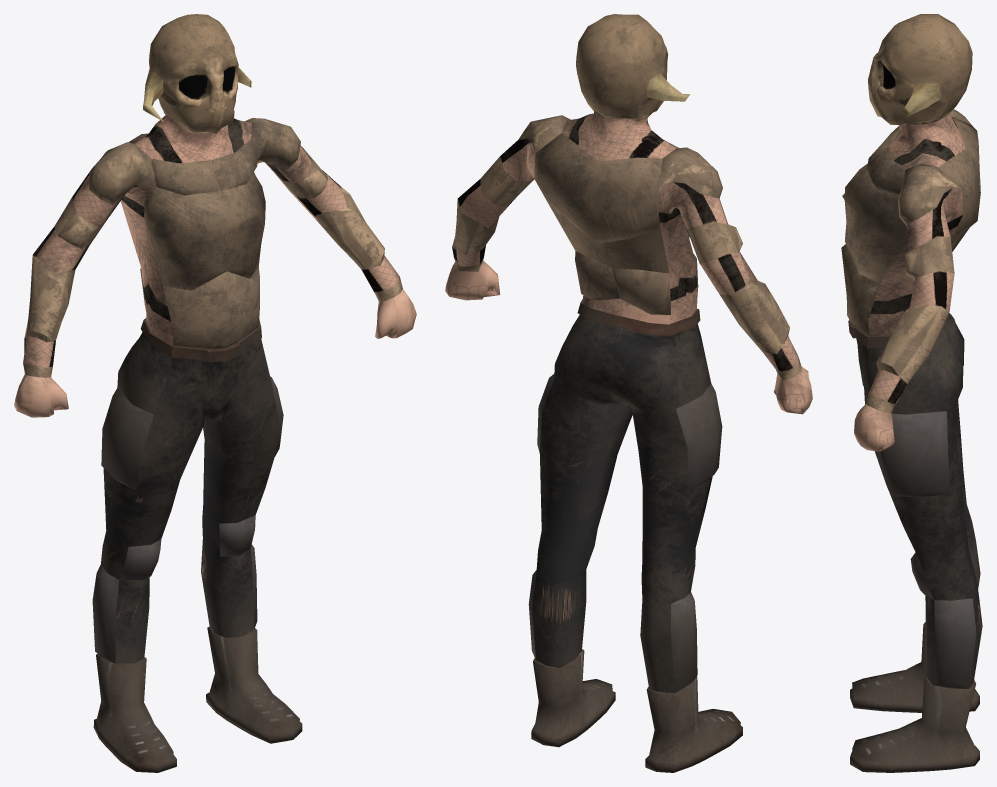
Rendered from Anim_idle_npc1.0024.obj.
3 views of the same model, side by side, from view 1: azimuth 30°, elevation 25°; view 2: azimuth 150°, elevation 25°; view 3: azimuth 270°, elevation 25° (orthographic).
Parts seen in each view (by area): view 1: NPC2; view 2: NPC2; view 3: NPC2.
Part boxes in pixels (x1,y1,x2,y2): NPC2: (14,14,416,772); NPC2: (445,14,812,772); NPC2: (841,14,982,772).
Size of the model in its own units: 5.36 by 9.68 by 1.73.
